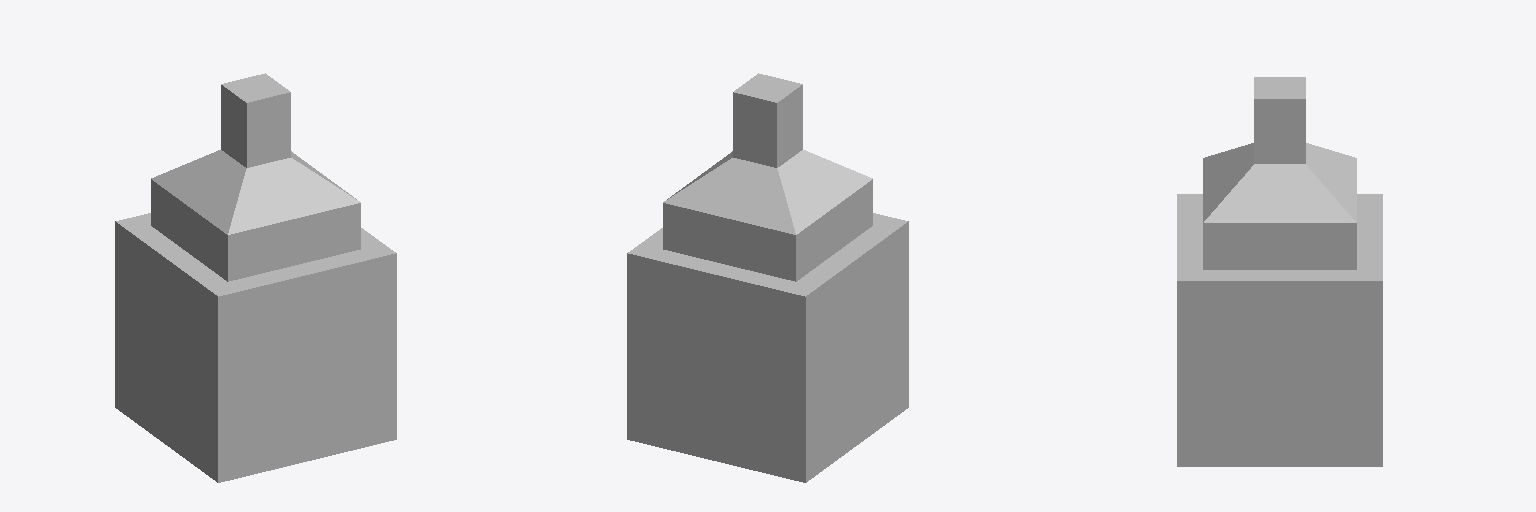
File: telesupport.obj
3 renders of one model, left to right at view 1: azimuth 30°, elevation 25°; view 2: azimuth 150°, elevation 25°; view 3: azimuth 270°, elevation 25°, orthographic.
Bounding box in the file's own units: 1 × 1.8 × 1.